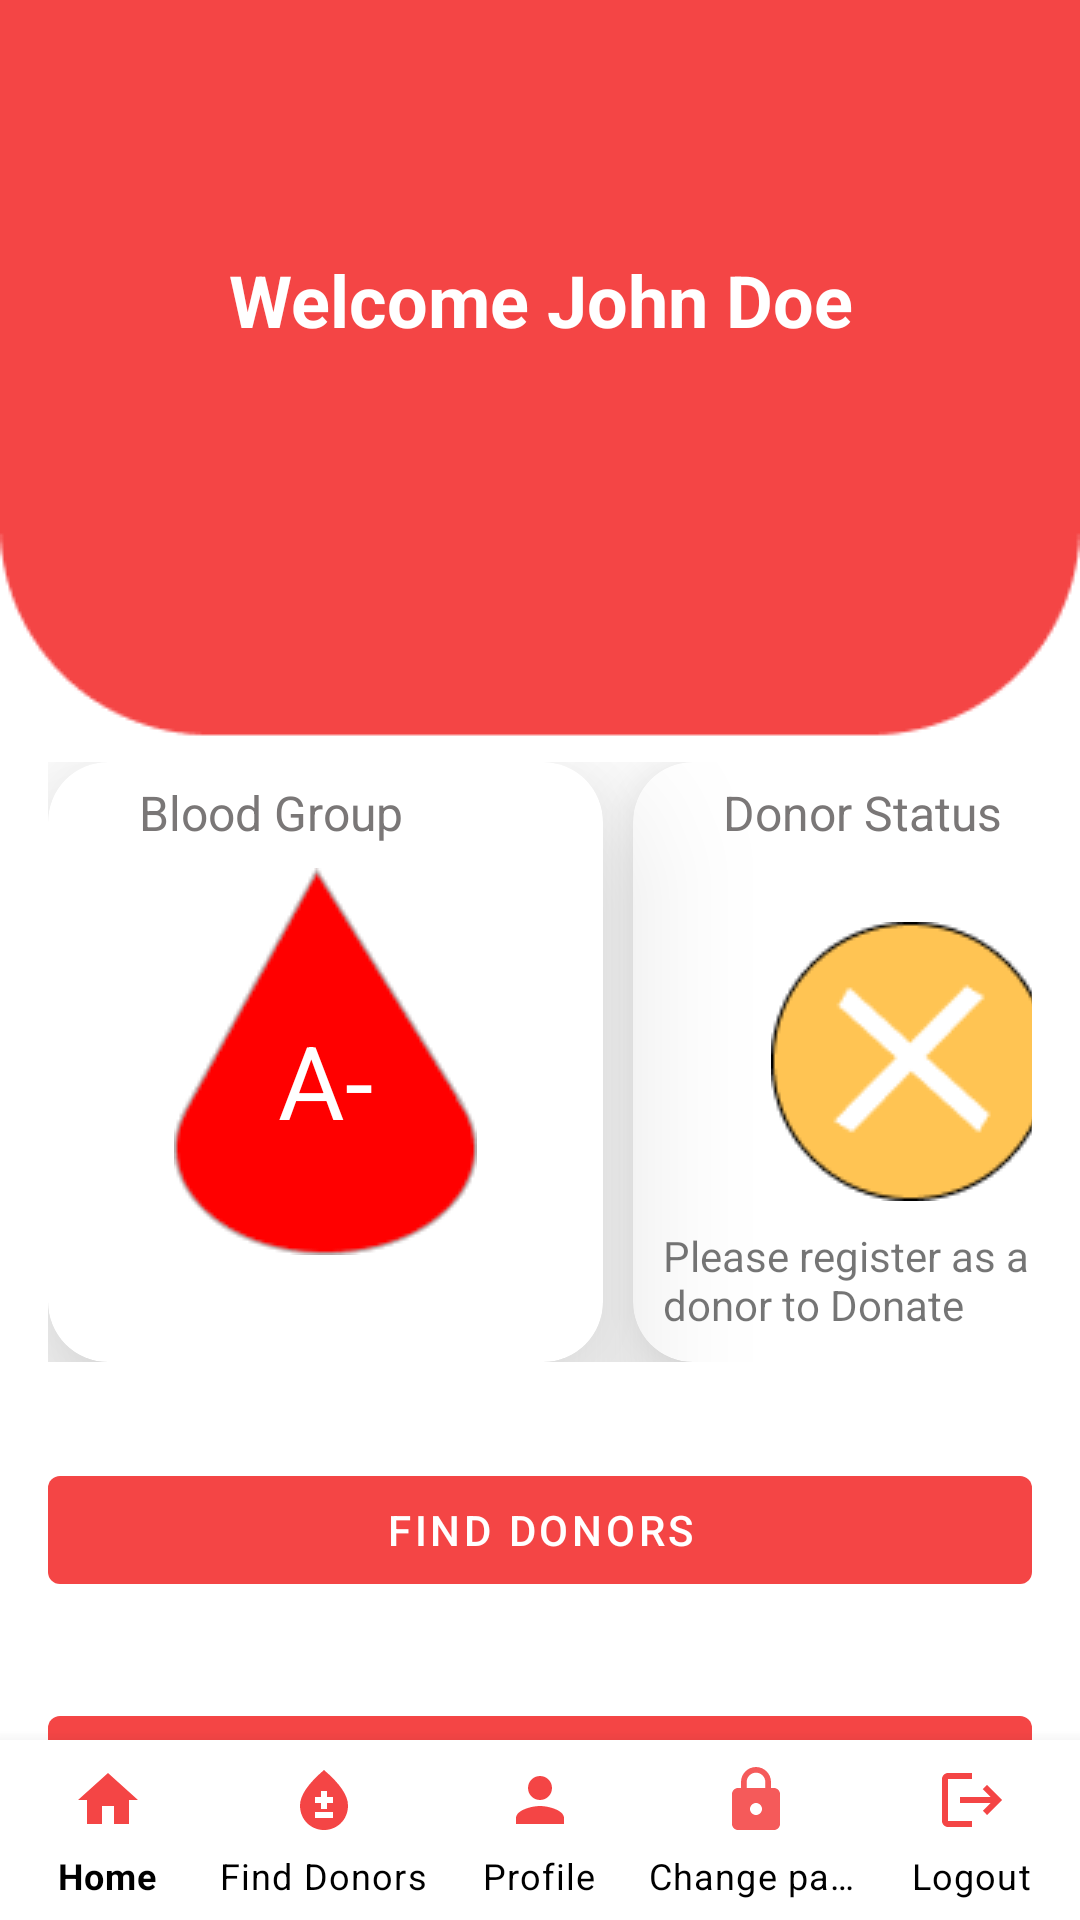

Named icons in this screenshot (1080px x 1920px) and their bounding boxes, (x1, y1, x2, y2):
notreg: (771, 922, 1032, 1201)
